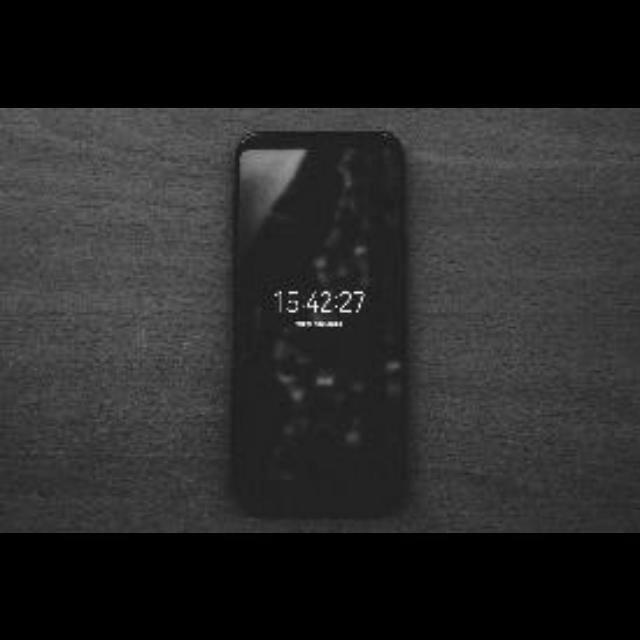fake: (230, 136, 414, 522)
